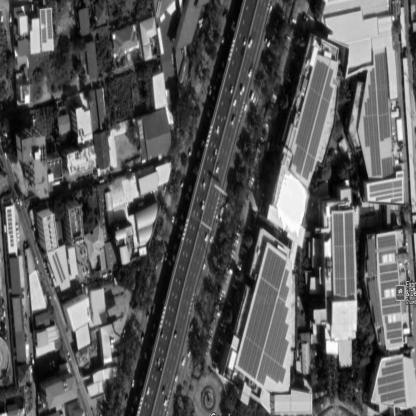solar-pv-panel: (238, 247, 290, 386), (292, 60, 334, 180), (364, 68, 382, 177), (334, 212, 355, 295), (375, 53, 390, 142), (378, 359, 406, 405), (369, 174, 403, 202), (368, 280, 383, 327), (378, 234, 397, 262), (385, 315, 403, 344), (41, 9, 53, 43), (366, 238, 377, 275), (380, 263, 399, 282), (382, 297, 401, 316), (381, 280, 399, 298), (382, 156, 393, 178)
